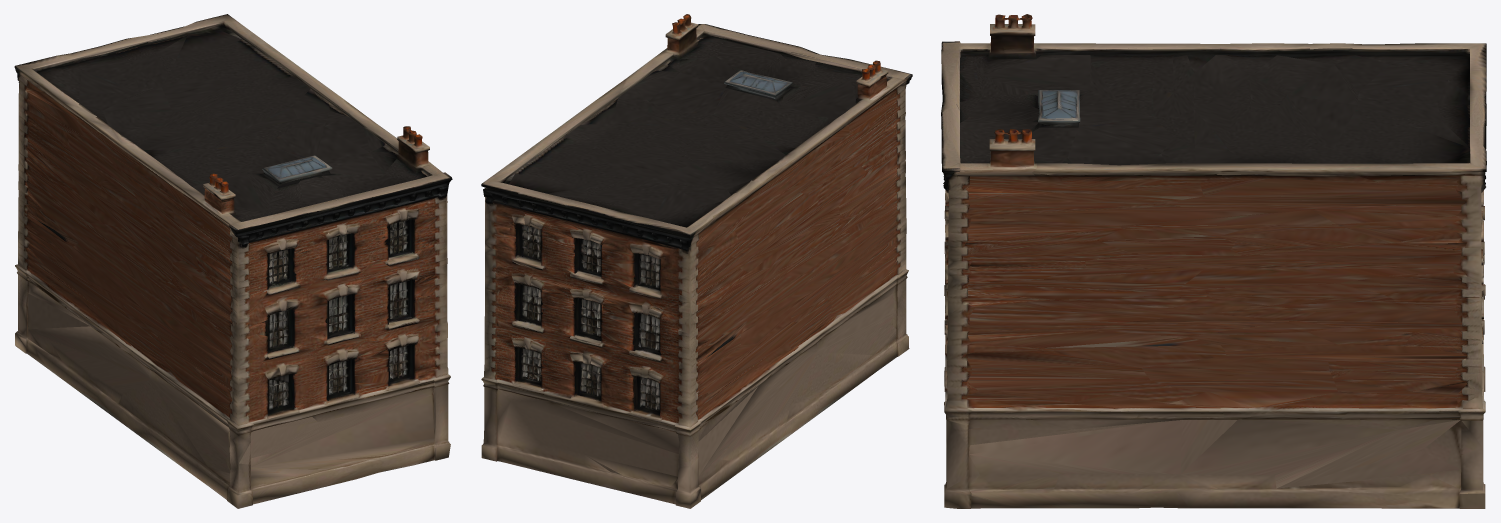
File: MixedUseBrick_LOD1.fbx
3 views of the same model, side by side, from view 1: azimuth 30°, elevation 25°; view 2: azimuth 150°, elevation 25°; view 3: azimuth 270°, elevation 25° (orthographic). The views are drawn at different scales.
Visible parts, largest first — view 1: MixedUseBrick_Level1; view 2: MixedUseBrick_Level1; view 3: MixedUseBrick_Level1.
Boxes of the visible parts, x1,y1,x2,y2 form: MixedUseBrick_Level1: [14, 14, 452, 508]; MixedUseBrick_Level1: [481, 14, 912, 508]; MixedUseBrick_Level1: [941, 14, 1486, 508].
Size of the model in its own units: 54.75 by 73.95 by 98.14.
Materials: 1 (1 with a texture image).
